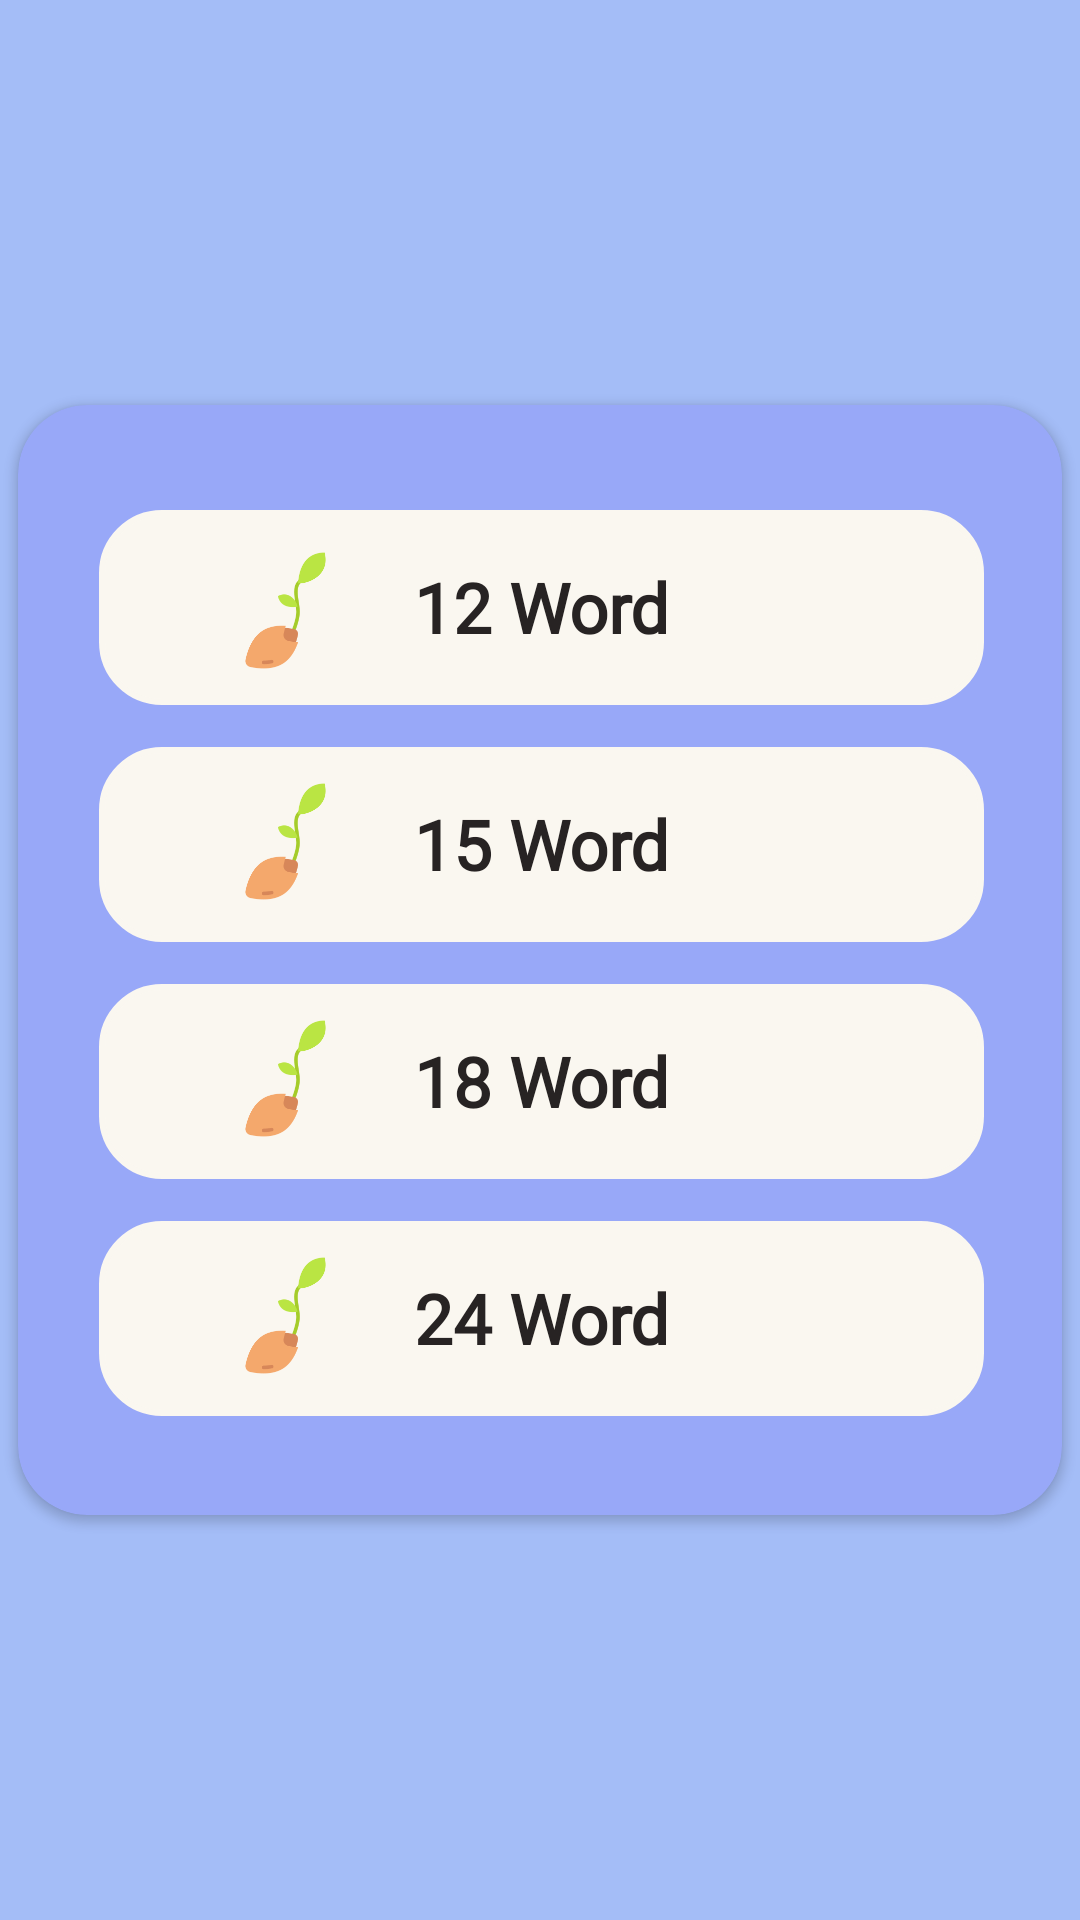

Locate icon controls on the screen. Image size 1080x1920, boxes as (x1, y1, x2, y2).
seed: (245, 552, 326, 669), (245, 783, 326, 900), (245, 1020, 326, 1137), (245, 1257, 326, 1374)
